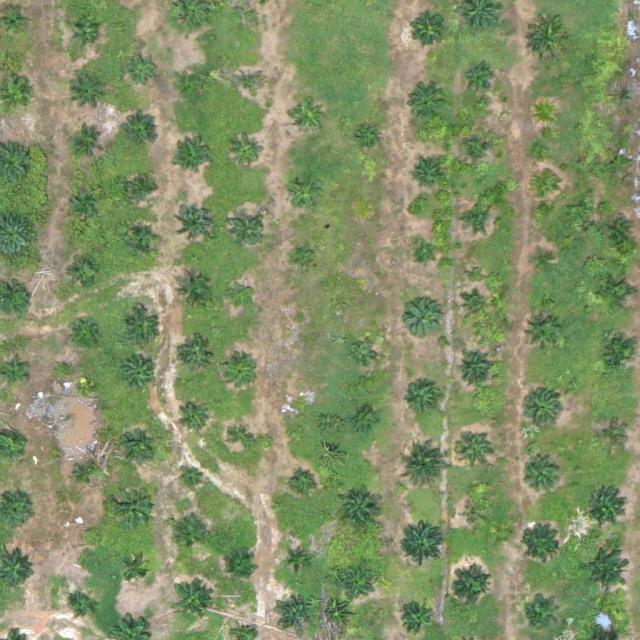Grass: (356, 410, 379, 434)
Small: (399, 444, 446, 491), (400, 516, 447, 563), (112, 480, 159, 527), (583, 548, 630, 595), (284, 174, 324, 214), (529, 19, 569, 59), (288, 97, 328, 137), (274, 592, 314, 631), (172, 580, 211, 620), (402, 297, 442, 336), (339, 490, 378, 530), (176, 200, 215, 240), (123, 308, 163, 347), (406, 83, 445, 123), (409, 10, 448, 50), (455, 349, 494, 389), (524, 524, 563, 564), (524, 314, 563, 354), (522, 389, 561, 429), (525, 458, 564, 498), (120, 116, 160, 155), (173, 140, 212, 179), (403, 376, 442, 415), (119, 428, 158, 467), (174, 273, 213, 312), (228, 211, 267, 250), (122, 357, 161, 396), (450, 568, 489, 607), (588, 488, 627, 527), (599, 335, 638, 374), (456, 430, 495, 469), (71, 73, 110, 112), (598, 273, 637, 312), (232, 136, 263, 168), (341, 570, 372, 602), (400, 602, 431, 634), (410, 159, 441, 191), (458, 203, 489, 235), (235, 69, 266, 101), (180, 68, 211, 100), (128, 54, 159, 86), (71, 17, 102, 49), (69, 316, 100, 347), (68, 256, 99, 287), (182, 338, 213, 369), (226, 358, 257, 389), (171, 522, 202, 553), (461, 66, 492, 97), (525, 598, 556, 629), (596, 421, 627, 452), (225, 551, 256, 582), (120, 557, 151, 588), (66, 593, 97, 624), (71, 457, 102, 488), (459, 293, 490, 324), (461, 137, 492, 168), (127, 172, 158, 203), (128, 225, 159, 256), (70, 185, 101, 216), (73, 125, 104, 156), (179, 403, 210, 434), (180, 466, 204, 490), (533, 101, 557, 125), (609, 219, 633, 243), (534, 177, 558, 201), (534, 252, 558, 276), (607, 151, 631, 175), (356, 128, 380, 152), (229, 285, 253, 309), (290, 400, 314, 424), (231, 426, 255, 450), (465, 503, 488, 527), (284, 549, 307, 573), (293, 471, 317, 494), (613, 85, 636, 109), (413, 242, 436, 266), (293, 246, 316, 269), (353, 340, 376, 363), (81, 525, 97, 541), (77, 379, 92, 394)
